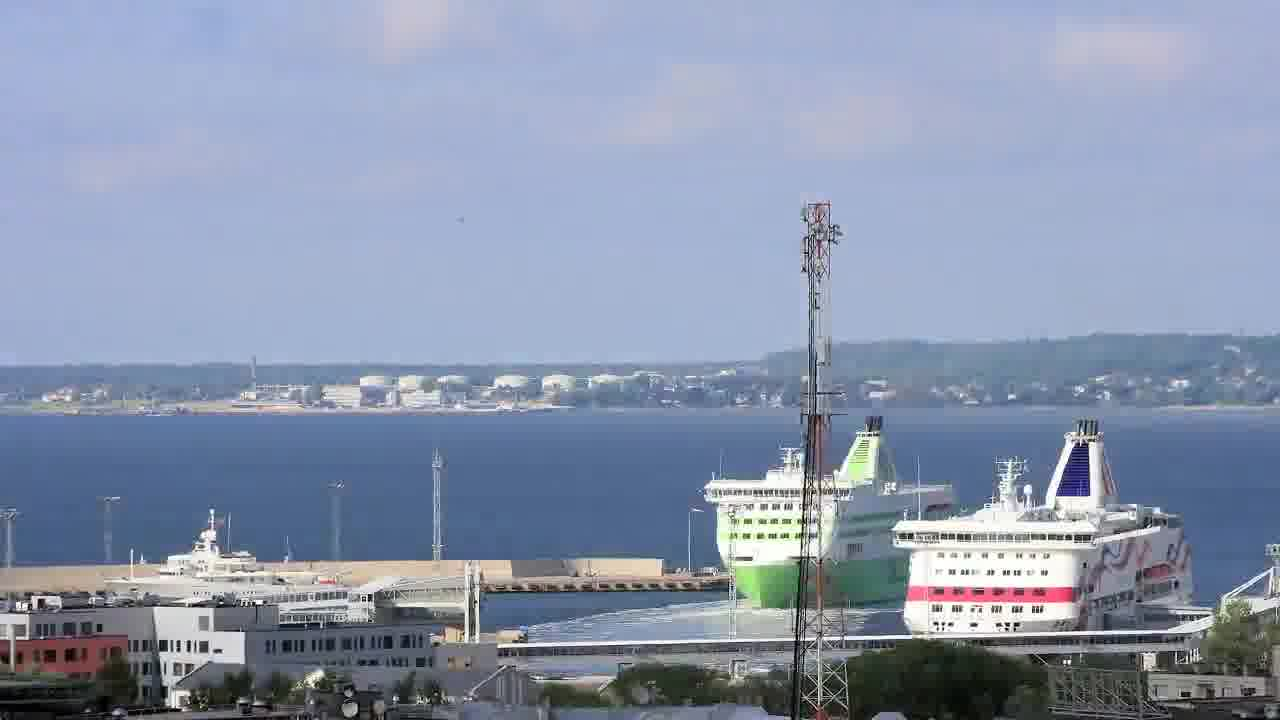type-3: (868, 415, 1225, 638), (702, 420, 959, 617), (84, 511, 353, 609)
